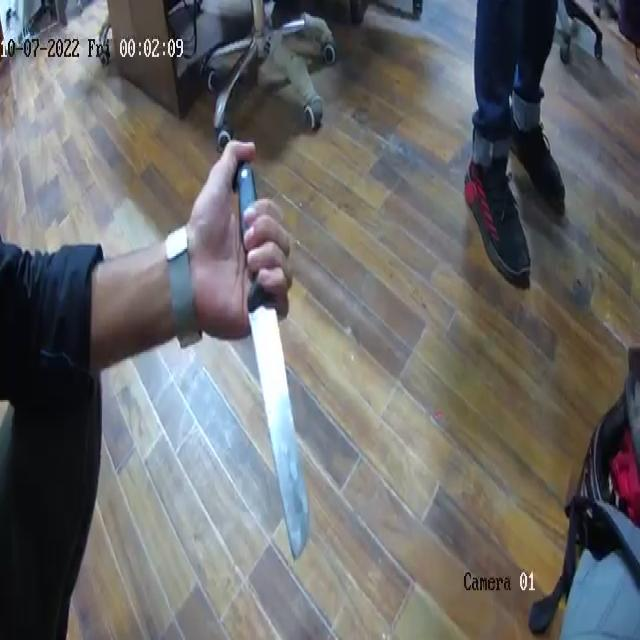Knife: (229, 135, 311, 560)
